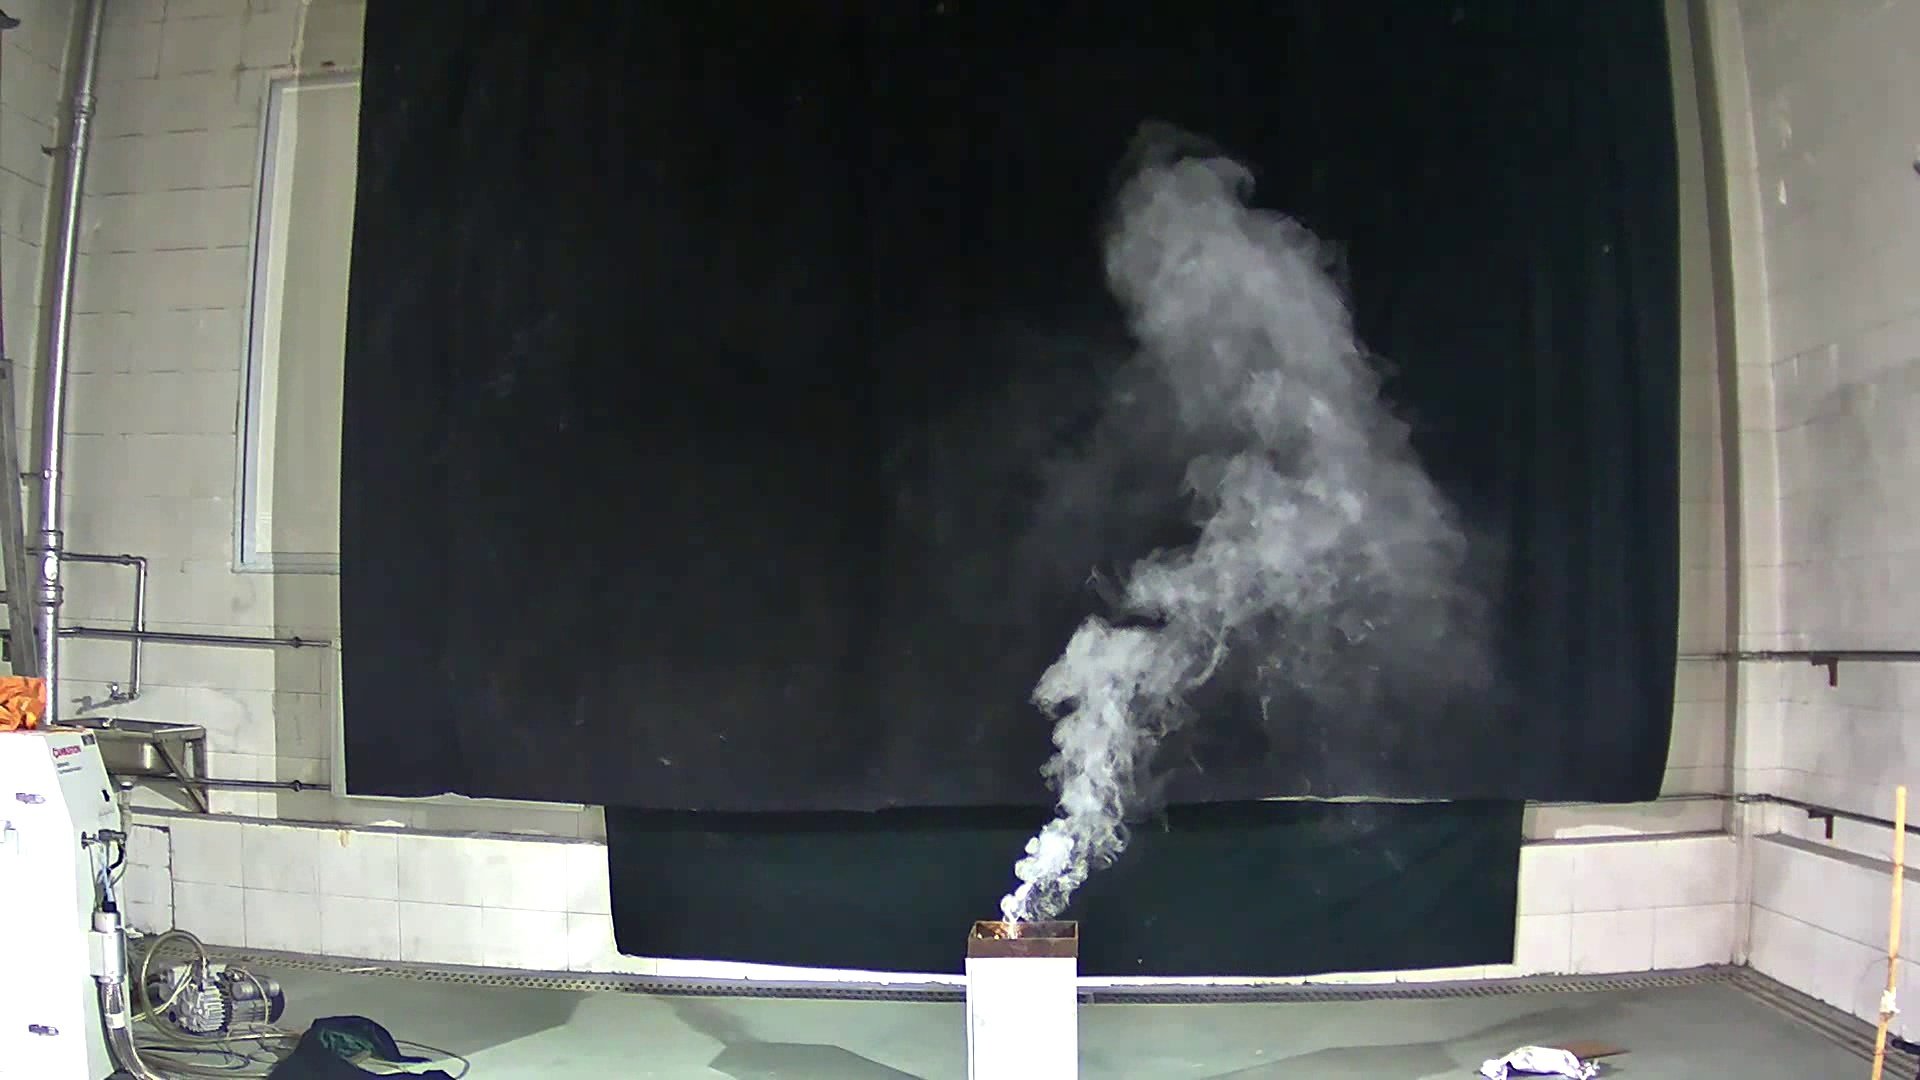smoke: (1002, 116, 1484, 916)
